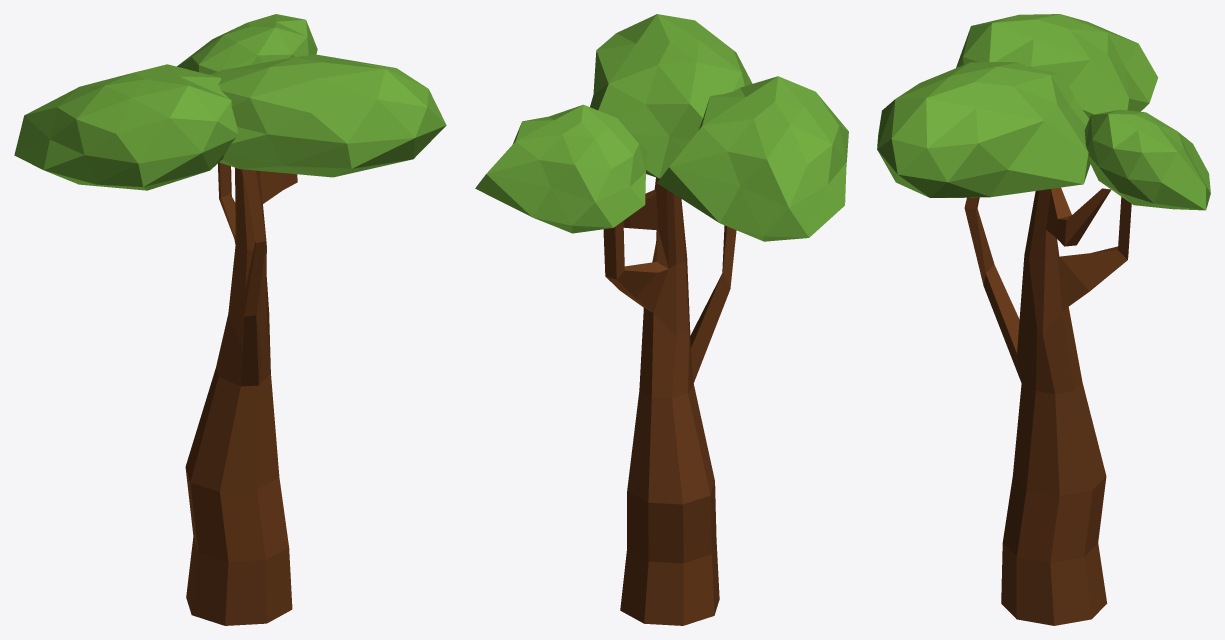
File: tree2.fbx
3 renders of one model, left to right at view 1: azimuth 30°, elevation 25°; view 2: azimuth 150°, elevation 25°; view 3: azimuth 270°, elevation 25°, orthographic. The views are drawn at different scales.
Parts seen in each view (by area): view 1: Icosphere.003; view 2: Icosphere.003; view 3: Icosphere.003.
Part boxes in pixels (x1,y1,x2,y2): Icosphere.003: (14, 14, 446, 625); Icosphere.003: (475, 14, 848, 625); Icosphere.003: (877, 14, 1210, 625).
Size of the model in its own units: 1894 by 3129 by 1744.
